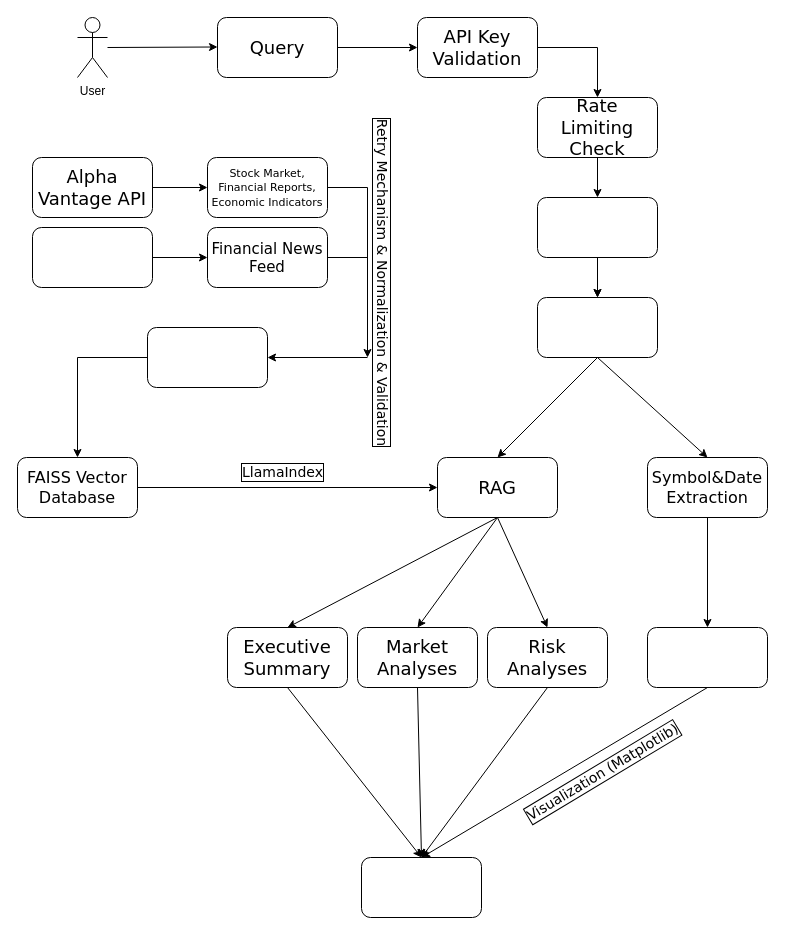
This 785x935 diagram has some shape labels left out. The shapes that lost their labels are listed below. From the top down, each one's centre as x and y in pixels, then its label:
At (597,227): "Time out Check".
At (92,257): "News API".
At (597,327): "Prompt Template & System Prompt".
At (207,357): "PostrgeSQL".
At (707,657): "Regression".
At (421,887): "PDF Report".
